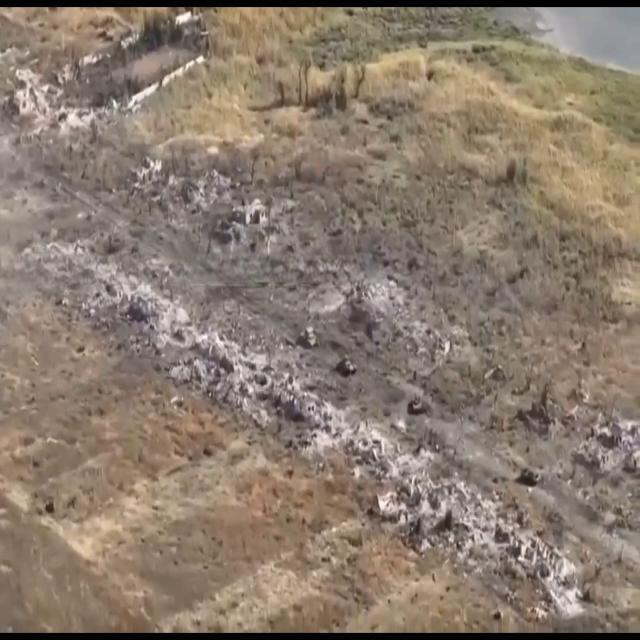AIFV: (335, 353, 359, 379), (519, 465, 543, 487), (411, 392, 424, 415)
MBT: (297, 324, 325, 352)
